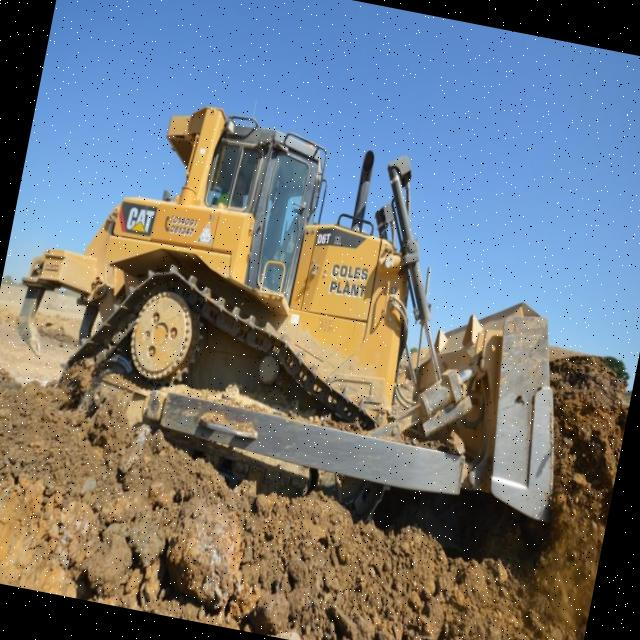Bulldozer: (0, 50, 619, 587)
